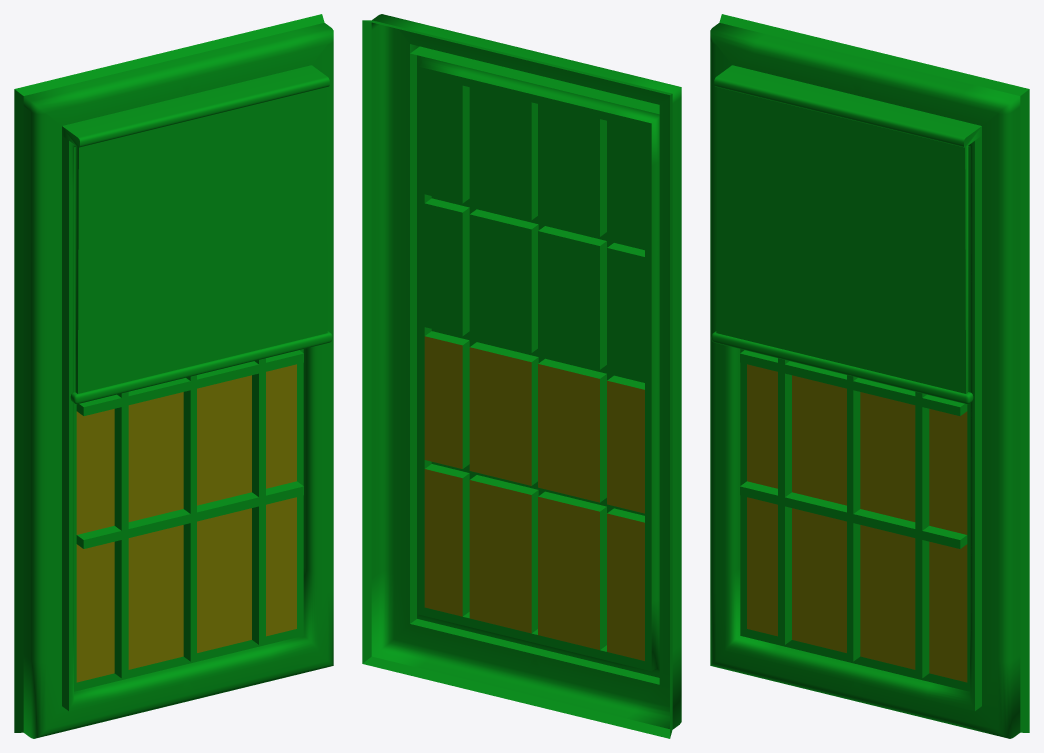
The model's file is fenetre2.fbx.
The picture shows the model from 3 angles, left to right: view 1: azimuth 30°, elevation 25°; view 2: azimuth 150°, elevation 25°; view 3: azimuth 330°, elevation 25°; orthographic projection.
Visible parts, largest first — view 1: fenetre2; view 2: fenetre2; view 3: fenetre2.
Part boxes in pixels (x1,y1,x2,y2): fenetre2: [14, 14, 333, 738]; fenetre2: [362, 14, 681, 738]; fenetre2: [710, 14, 1029, 738].
Bounding box in the file's own units: 68.79 × 138 × 14.23.
